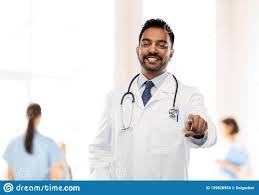Indian_Male: (141, 32, 174, 74)
